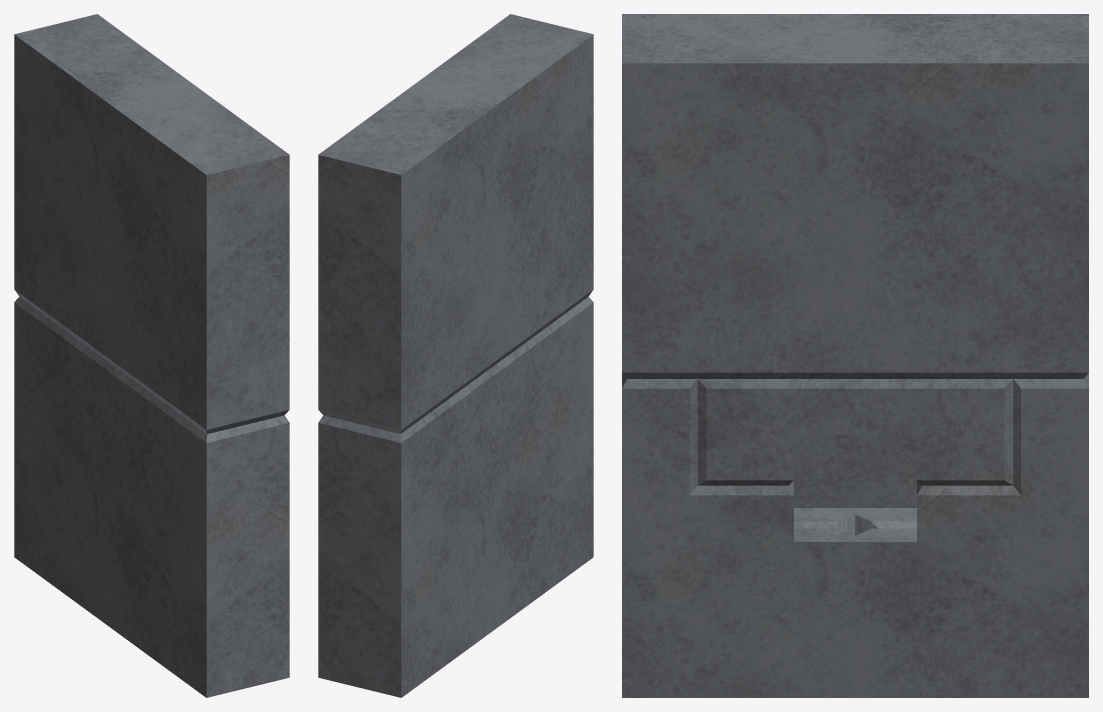
Rendered from wall_c.fbx.
The picture shows the model from 3 angles, left to right: view 1: azimuth 30°, elevation 25°; view 2: azimuth 150°, elevation 25°; view 3: azimuth 270°, elevation 25°; orthographic projection. The views are drawn at different scales.
Parts seen in each view (by area): view 1: Cube; view 2: Cube; view 3: Cube.
Part boxes in pixels (<box>): Cube: <box>14,14,289,697</box>; Cube: <box>318,14,593,697</box>; Cube: <box>622,14,1088,697</box>.
Size of the model in its own units: 1 by 6 by 4.
